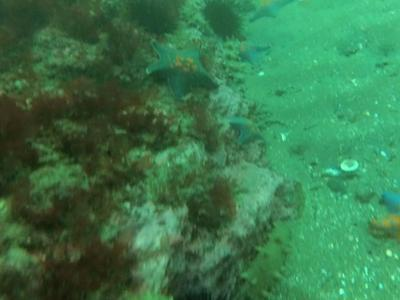holothurian: (236, 216, 302, 294), (219, 32, 248, 85)
scallop: (339, 157, 363, 174)
urchin: (129, 2, 180, 36), (206, 1, 246, 39)
